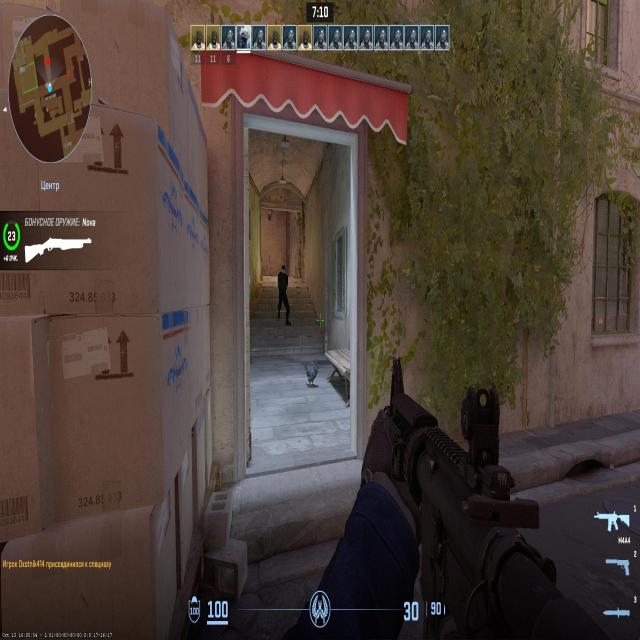CT: (278, 265, 290, 319)
CT_heat: (282, 268, 286, 272)
